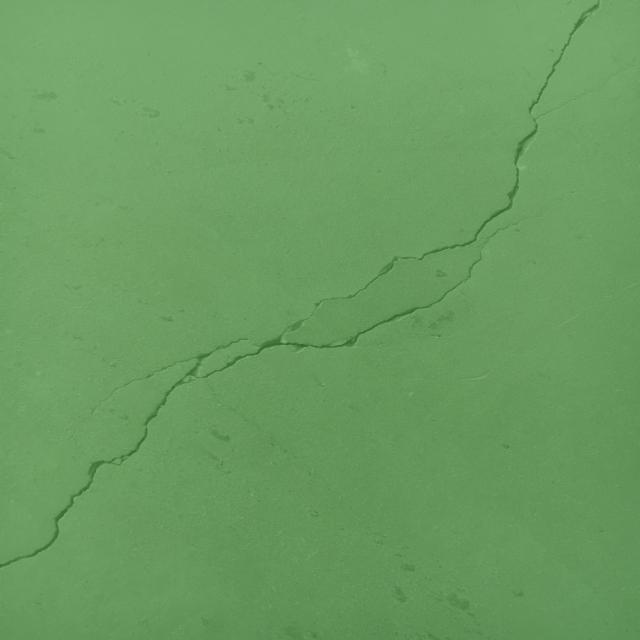crack: (0, 0, 636, 568)
